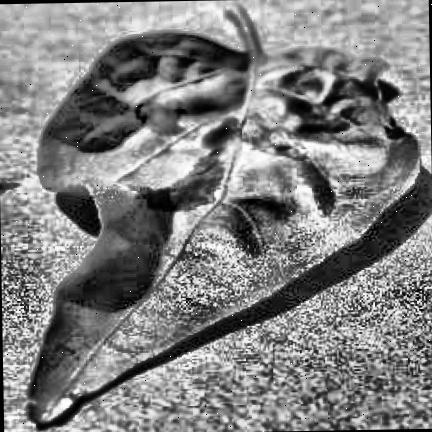leaf: (27, 6, 419, 423)
